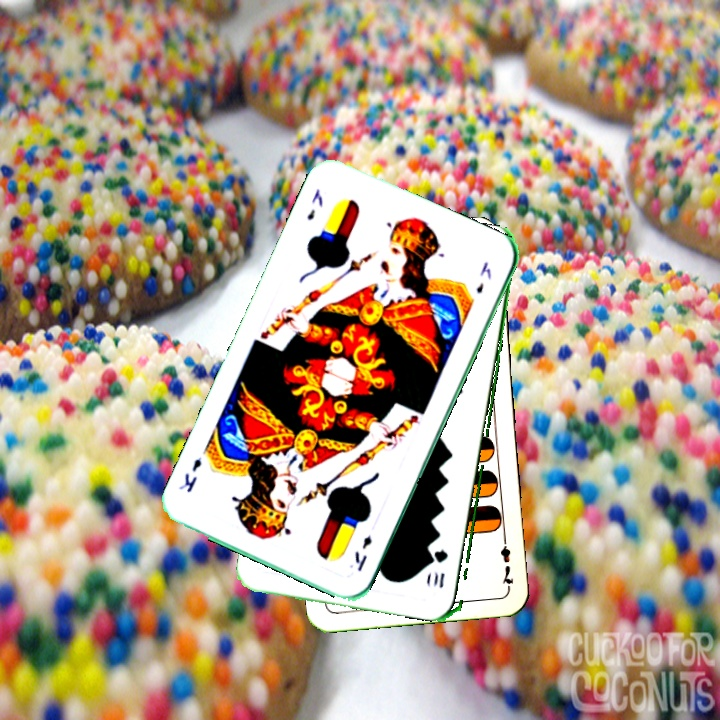E7: (496, 531, 516, 590)
EK: (350, 532, 375, 575), (302, 184, 326, 223)
G10: (430, 546, 451, 591)
